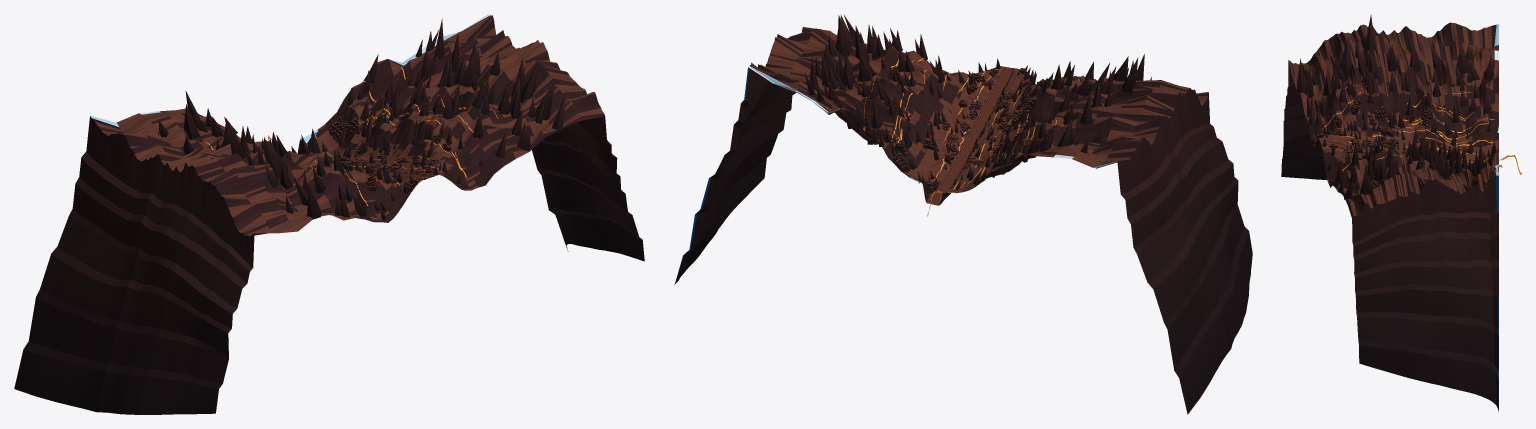
File: ss_zone3.fbx
3 renders of one model, left to right at view 1: azimuth 30°, elevation 25°; view 2: azimuth 150°, elevation 25°; view 3: azimuth 270°, elevation 25°, orthographic. The views are drawn at different scales.
Visible parts, largest first — view 1: Z3_Terrain_R_2000, Z3_Terrain_R_2500, Z3_Terrain_L_2500, Z3_Spires_01, Z3_Terrain_L_2000, Z3_Basalt_02, Z3_Basalt_01; view 2: Z3_Terrain_R_2000, Z3_Spires_01, Z3_Terrain_R_2500, Z3_Terrain_L_2000, Z3_Terrain_L_2500, Z3_Basalt_01, Z3_Lava_01, Z3_Basalt_02; view 3: Z3_Terrain_L_2500, Z3_Terrain_L_2000, Z3_Terrain_R_2000, Z3_Spires_01, Z3_Terrain_R_2500, Z3_Basalt_01, Z3_Lava_01, Z3_Basalt_02.
Boxes of the visible parts, x1,y1,x2,y2 form: Z3_Terrain_R_2000: (14, 108, 274, 414); Z3_Terrain_R_2500: (121, 149, 423, 414); Z3_Terrain_L_2500: (363, 40, 644, 261); Z3_Spires_01: (158, 18, 566, 220); Z3_Terrain_L_2000: (297, 14, 590, 251); Z3_Basalt_02: (340, 133, 450, 195); Z3_Basalt_01: (287, 115, 410, 175); Z3_Terrain_R_2000: (937, 97, 1241, 414); Z3_Spires_01: (805, 14, 1151, 190); Z3_Terrain_R_2500: (979, 68, 1252, 325); Z3_Terrain_L_2000: (674, 45, 967, 284); Z3_Terrain_L_2500: (708, 27, 1003, 243); Z3_Basalt_01: (893, 96, 1036, 193); Z3_Lava_01: (837, 50, 1079, 216); Z3_Basalt_02: (937, 68, 1052, 100); Z3_Terrain_L_2500: (1321, 144, 1451, 388); Z3_Terrain_L_2000: (1424, 148, 1498, 411); Z3_Terrain_R_2000: (1379, 22, 1498, 165); Z3_Spires_01: (1296, 14, 1496, 199); Z3_Terrain_R_2500: (1281, 24, 1406, 179); Z3_Basalt_01: (1361, 106, 1473, 165); Z3_Lava_01: (1322, 83, 1521, 174); Z3_Basalt_02: (1316, 97, 1373, 159).
Size of the model in its own units: 2722 by 1384 by 1275.
1 material, 1 textured.
